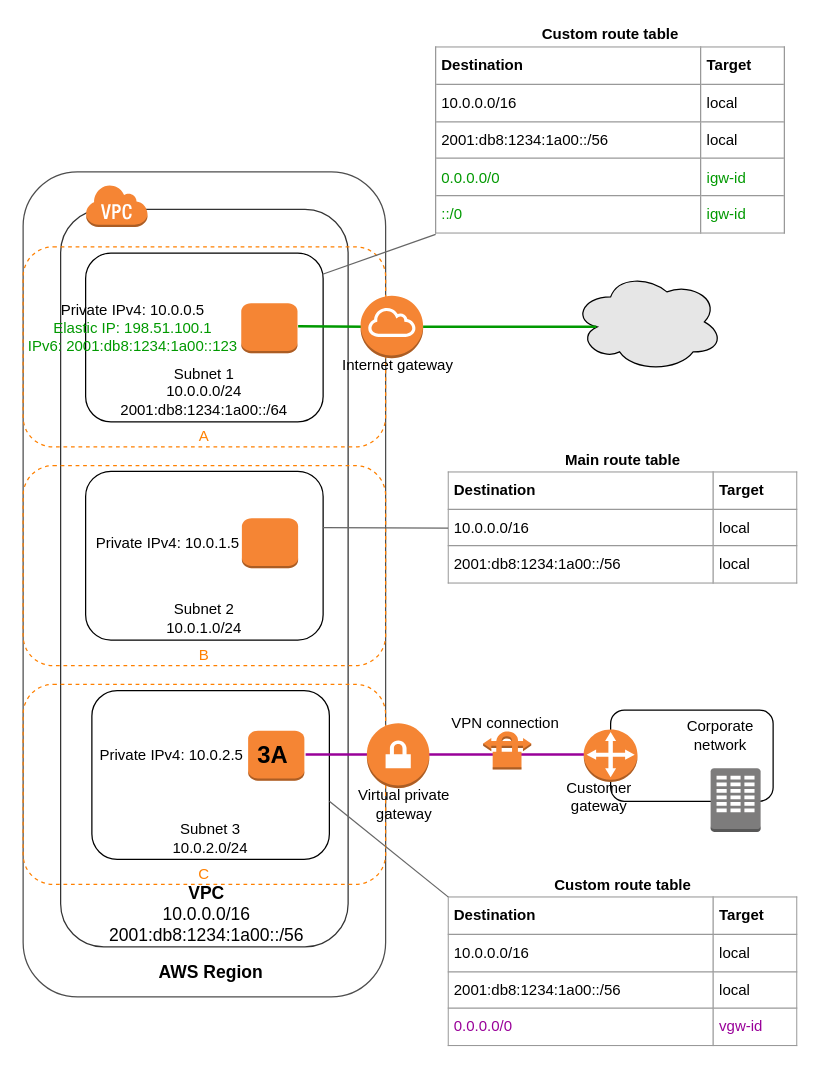
Image size: 819x1068. Some labels were removed from this diagram. Here are the shapes that lost their labels. From the top down, the centre of each, then its label:
the point at 269,327: 1A
the point at 647,321: Internet
the point at 269,542: 2A
